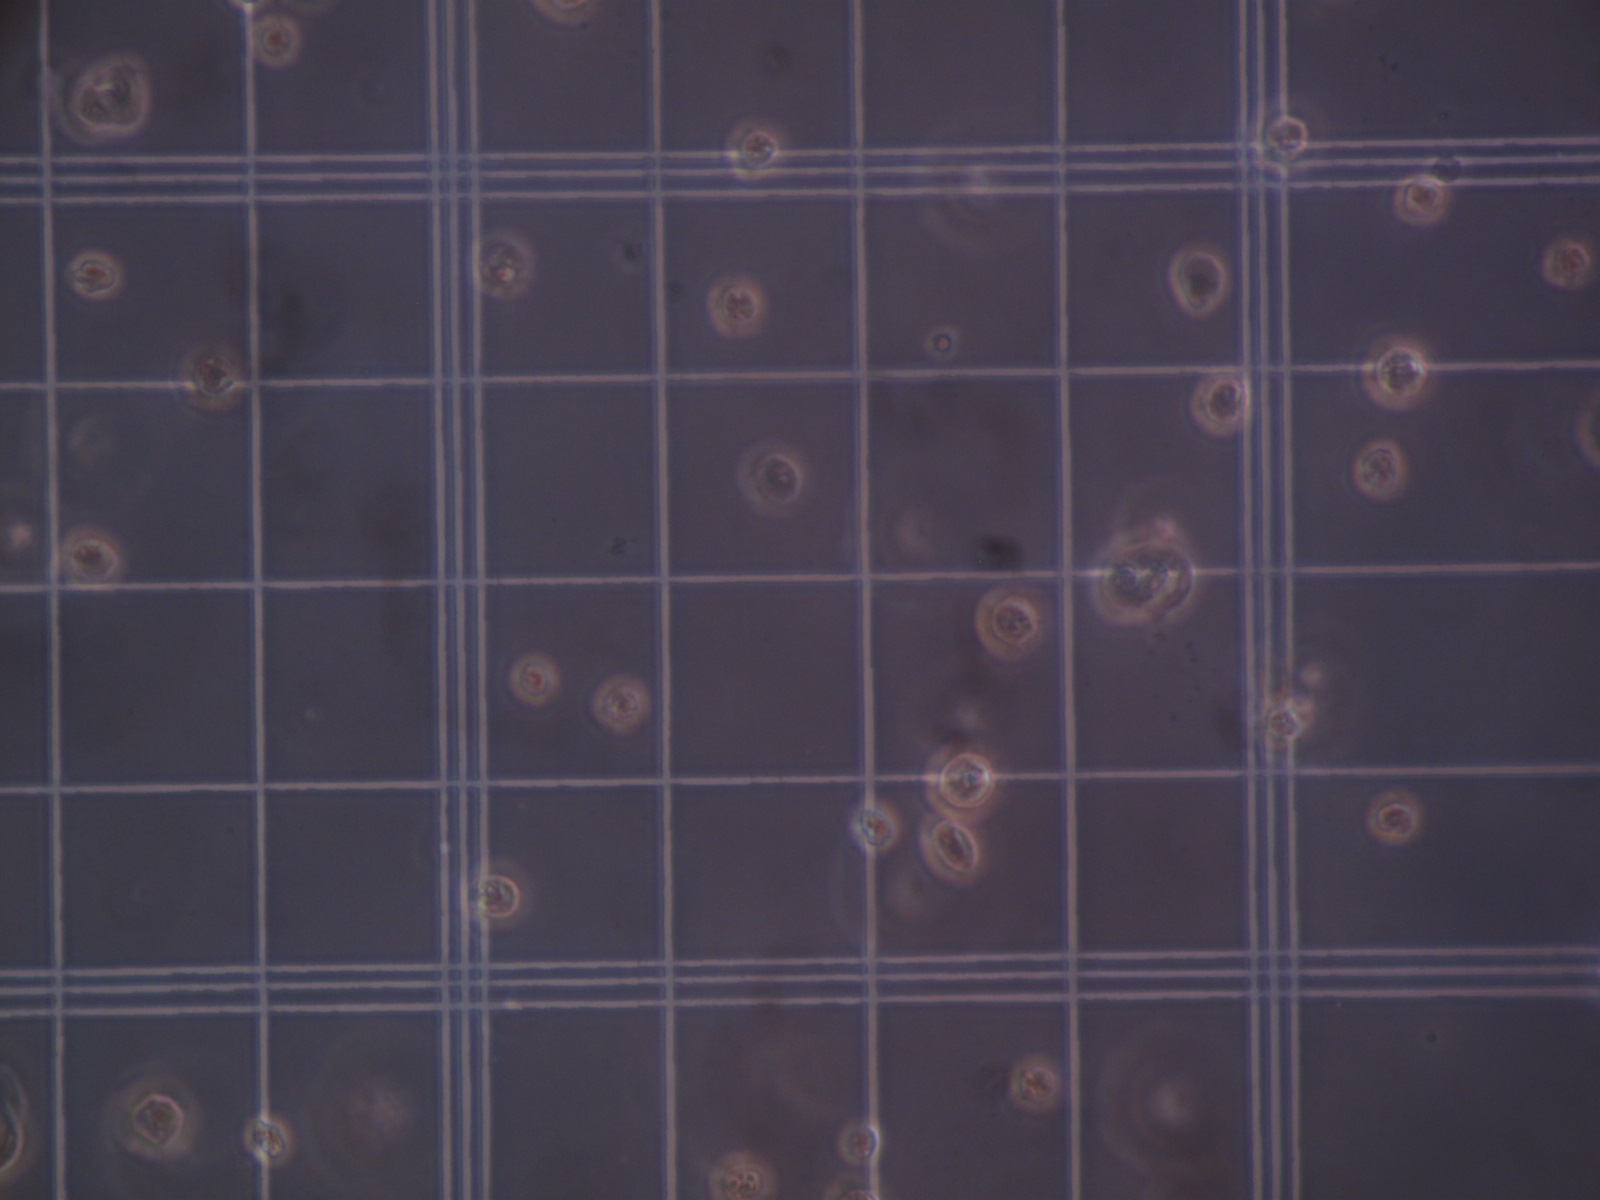hemo: (108, 1075, 199, 1162), (68, 52, 151, 137), (925, 742, 1003, 822), (738, 437, 810, 517), (462, 857, 533, 934), (1364, 334, 1432, 412), (921, 814, 991, 887), (975, 585, 1042, 661), (175, 343, 244, 413), (1246, 101, 1311, 175), (724, 113, 792, 183), (470, 228, 537, 299), (58, 526, 125, 592), (702, 276, 767, 339), (1188, 372, 1251, 436), (591, 672, 651, 737), (1170, 245, 1226, 314), (1367, 783, 1424, 845), (711, 1152, 779, 1199), (1010, 1054, 1061, 1116), (508, 650, 562, 707), (1256, 695, 1315, 746), (1393, 173, 1450, 226), (847, 795, 900, 852), (242, 1112, 295, 1167), (1352, 441, 1402, 499), (66, 248, 123, 299), (249, 16, 300, 66), (1540, 241, 1587, 289), (837, 1117, 881, 1165)
